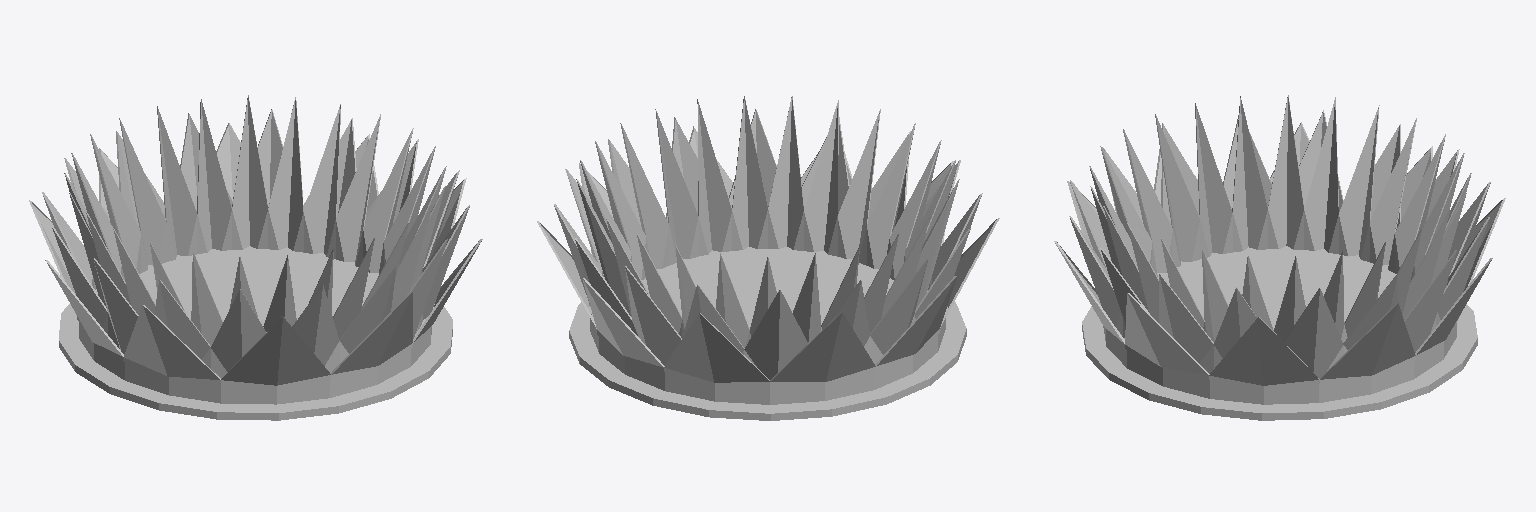
Rendered from portal_000037.obj.
3 views of the same model, side by side, from view 1: azimuth 30°, elevation 25°; view 2: azimuth 150°, elevation 25°; view 3: azimuth 270°, elevation 25° (orthographic).
Parts seen in each view (by area): view 1: Cylinder.001, pCylinder1, Cylinder; view 2: Cylinder.001, pCylinder1, Cylinder; view 3: Cylinder.001, pCylinder1, Cylinder.
Part boxes in pixels (left/top/right/bottom): Cylinder.001: left=64, top=95, right=446, bottom=345; pCylinder1: left=29, top=123, right=482, bottom=420; Cylinder: left=42, top=109, right=469, bottom=378; Cylinder.001: left=576, top=96, right=959, bottom=347; pCylinder1: left=537, top=126, right=999, bottom=420; Cylinder: left=554, top=109, right=982, bottom=379; Cylinder.001: left=1089, top=95, right=1471, bottom=342; pCylinder1: left=1054, top=122, right=1505, bottom=420; Cylinder: left=1069, top=110, right=1490, bottom=377.
Bounding box in the file's own units: 7.42 × 2.9 × 7.27.